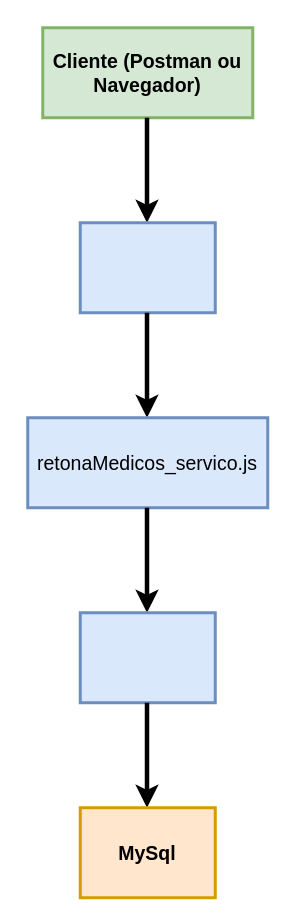
Image size: 294x924. Some labels were removed from this diagram. The centre of each missing label's shape, as x and y in pixels:
"conexao.js" goes at pixel 147 657.
"index.js" goes at pixel 147 267.
